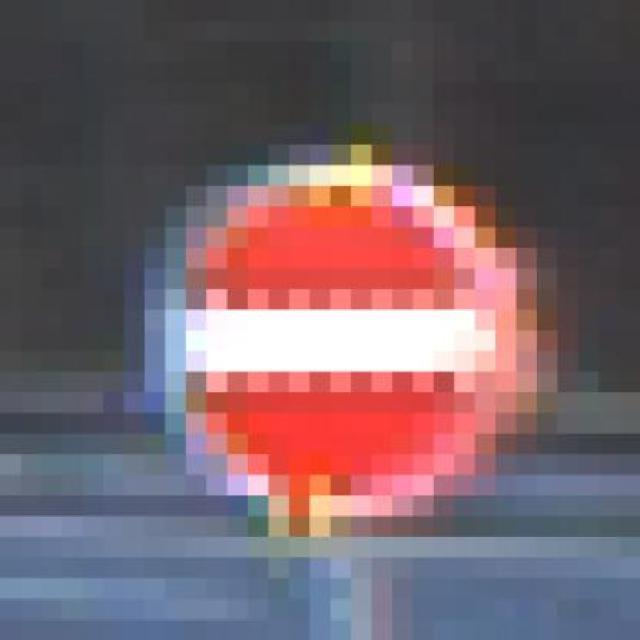B2: (176, 140, 522, 536)
